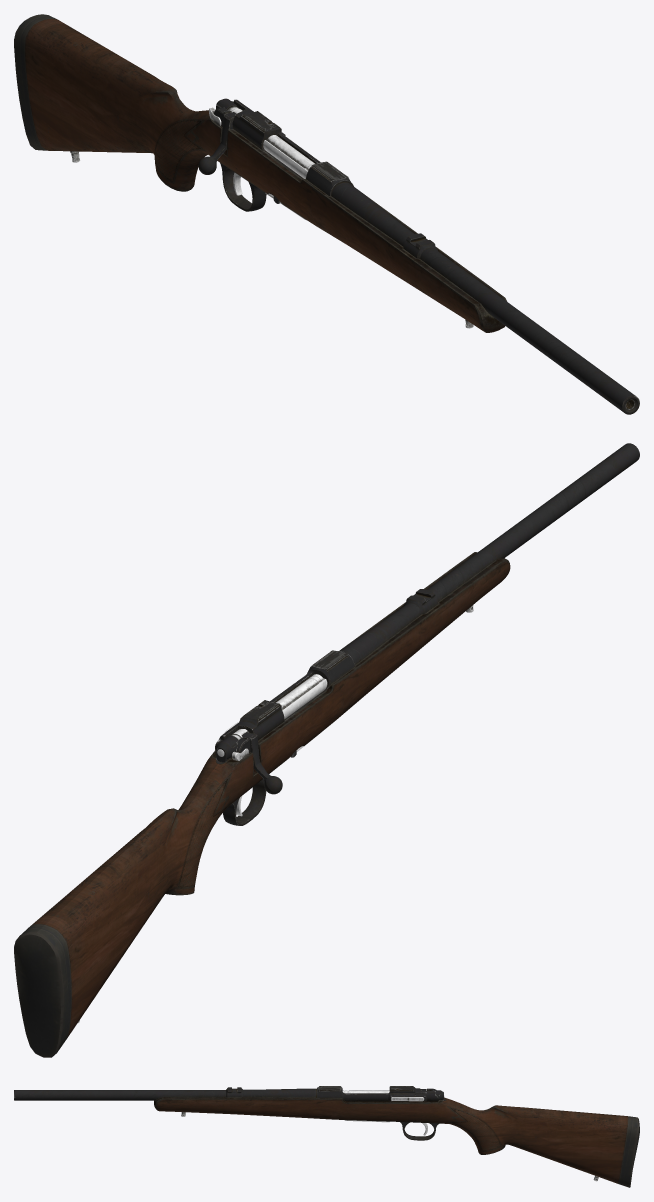
3 renders of one model, top to bottom at view 1: azimuth 30°, elevation 25°; view 2: azimuth 150°, elevation 25°; view 3: azimuth 270°, elevation 25°, orthographic. The views are drawn at different scales.
Parts seen in each view (by area): view 1: ANCHOR, BOLT; view 2: ANCHOR, BOLT; view 3: ANCHOR, BOLT.
Part boxes in pixels (<box>): ANCHOR: <box>14,14,639,414</box>; BOLT: <box>198,98,314,178</box>; ANCHOR: <box>14,443,639,1057</box>; BOLT: <box>216,674,327,794</box>; ANCHOR: <box>14,1086,639,1187</box>; BOLT: <box>342,1089,444,1100</box>.
Size of the model in its own units: 0.0666 by 0.1864 by 1.07.
1 material, 1 textured.
